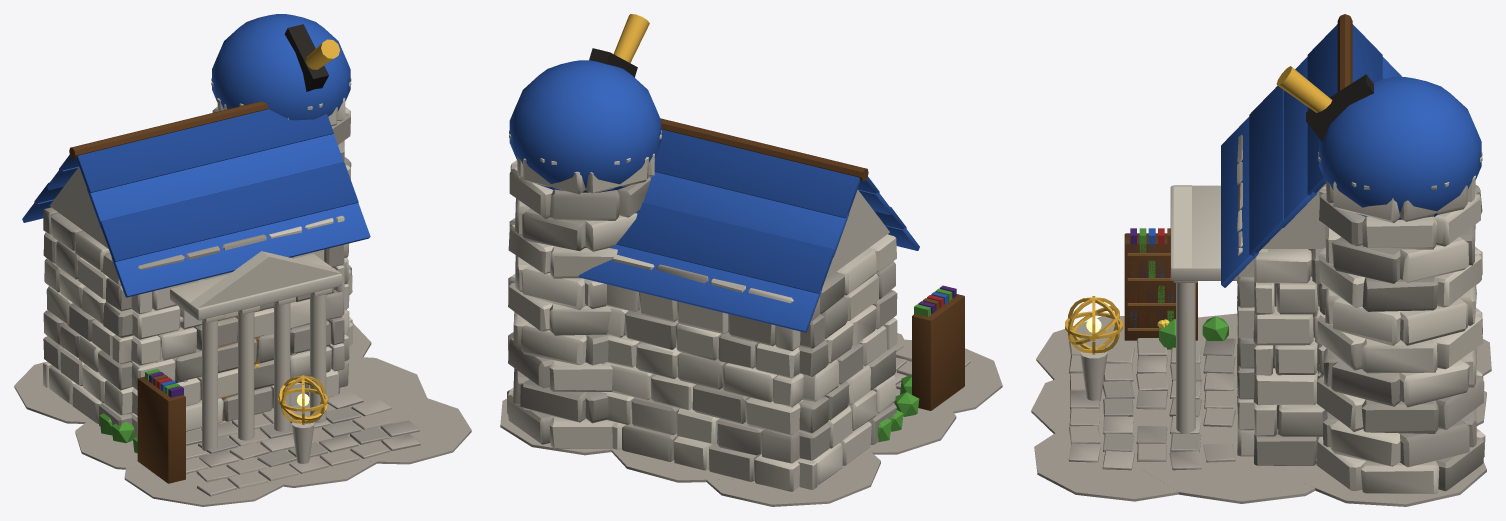
The model's file is akademia_poz17.glb.
3 views of the same model, side by side, from view 1: azimuth 30°, elevation 25°; view 2: azimuth 150°, elevation 25°; view 3: azimuth 270°, elevation 25° (orthographic). The views are drawn at different scales.
Visible parts, largest first — view 1: akademia_poz17; view 2: akademia_poz17; view 3: akademia_poz17.
Boxes of the visible parts, x1,y1,x2,y2 form: akademia_poz17: [14, 14, 471, 506]; akademia_poz17: [500, 14, 1002, 506]; akademia_poz17: [1031, 14, 1491, 506].
Bounding box in the file's own units: 7.44 × 7.29 × 7.51.
